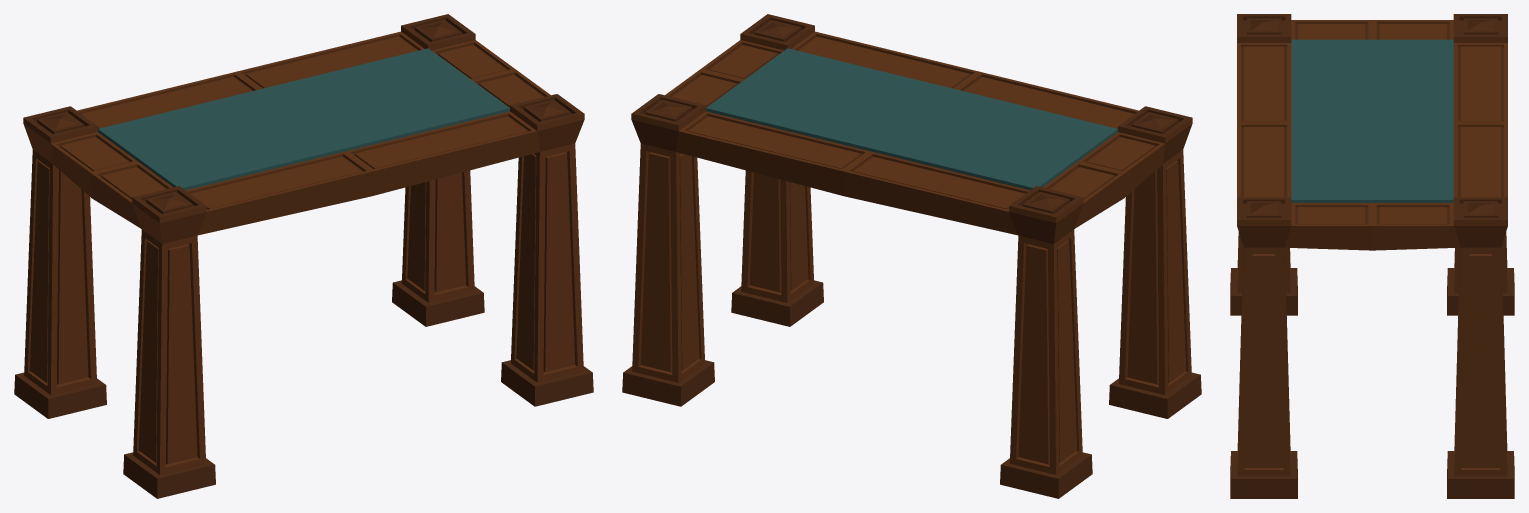
Rendered from Table.fbx.
3 views of the same model, side by side, from view 1: azimuth 30°, elevation 25°; view 2: azimuth 150°, elevation 25°; view 3: azimuth 270°, elevation 25° (orthographic).
Parts seen in each view (by area): view 1: Table; view 2: Table; view 3: Table.
Part boxes in pixels (<box>): Table: <box>14,14,593,498</box>; Table: <box>622,14,1201,498</box>; Table: <box>1230,14,1514,498</box>.
Size of the model in its own units: 231 by 142 by 131.
